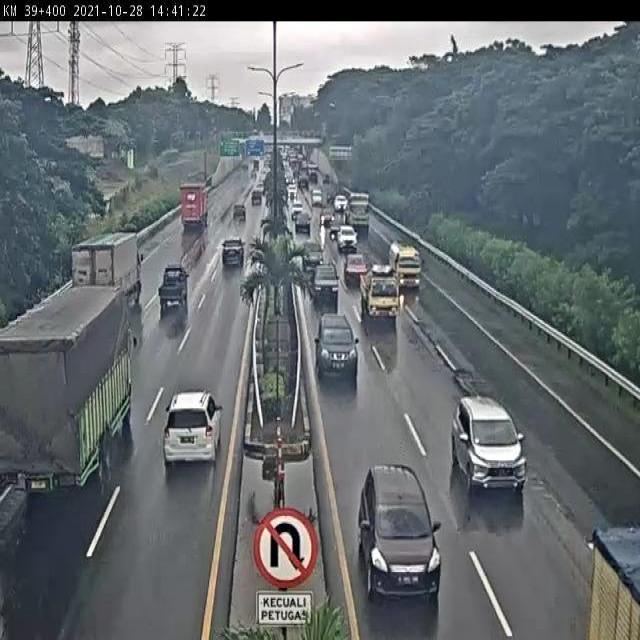car: (357, 463, 443, 600), (450, 395, 527, 492), (161, 391, 222, 466), (314, 313, 358, 380), (157, 266, 189, 310), (306, 264, 340, 305), (342, 253, 368, 284), (221, 236, 245, 269), (302, 239, 324, 269)
mid truck: (0, 285, 138, 495), (68, 230, 143, 310)
small truck: (359, 262, 400, 322)
truck-m-: (388, 240, 423, 289)
